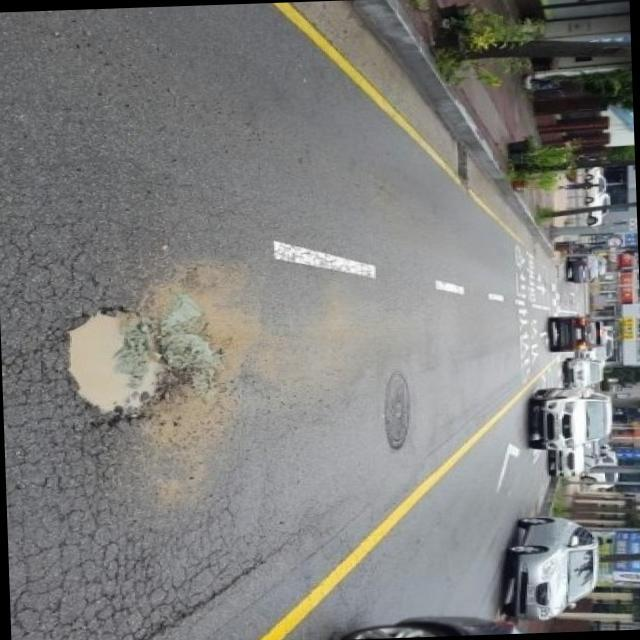pothole: (44, 289, 184, 442)
